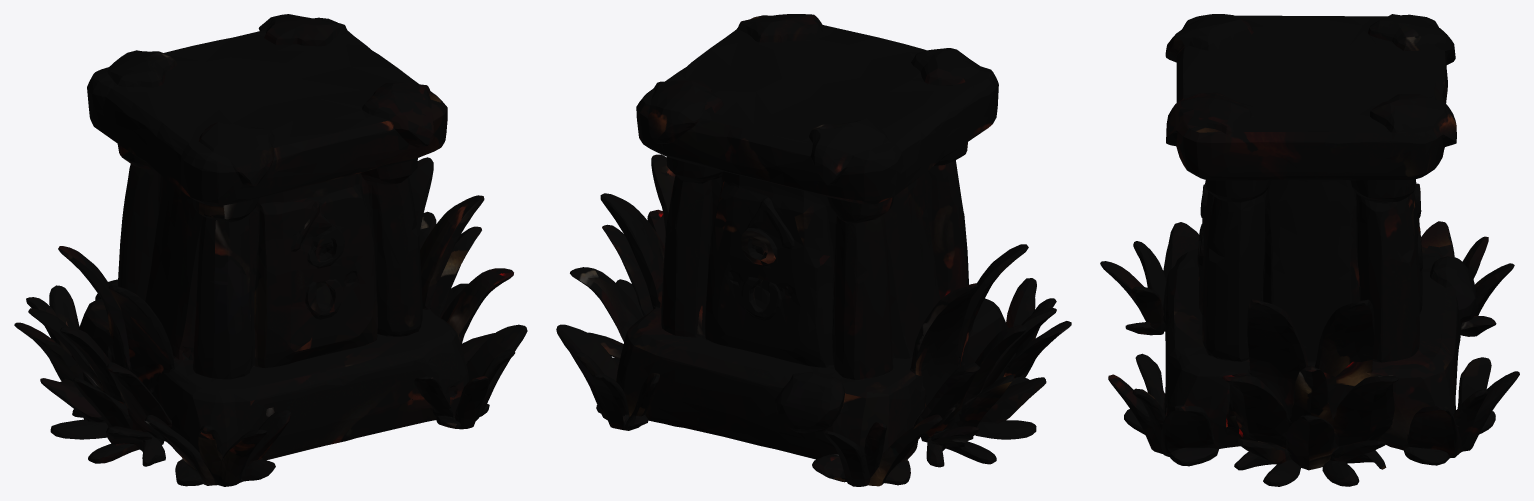
The picture shows the model from 3 angles, left to right: view 1: azimuth 30°, elevation 25°; view 2: azimuth 150°, elevation 25°; view 3: azimuth 270°, elevation 25°; orthographic projection.
Visible parts, largest first — view 1: geometry_0.004_Baked; view 2: geometry_0.004_Baked; view 3: geometry_0.004_Baked.
Boxes of the visible parts, <box> form: geometry_0.004_Baked: <box>14,14,527,486</box>; geometry_0.004_Baked: <box>556,14,1071,486</box>; geometry_0.004_Baked: <box>1100,14,1519,486</box>.
Bounding box in the file's own units: 86.35 × 64.32 × 73.96.
